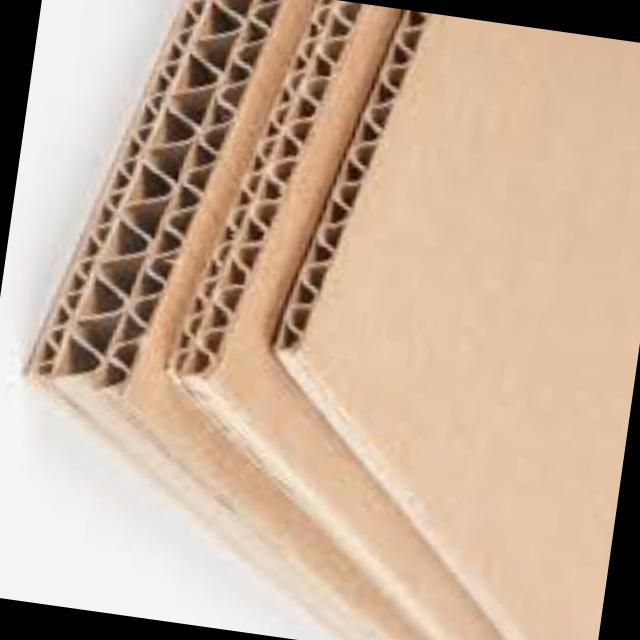cardboard paper: (36, 0, 640, 640)
